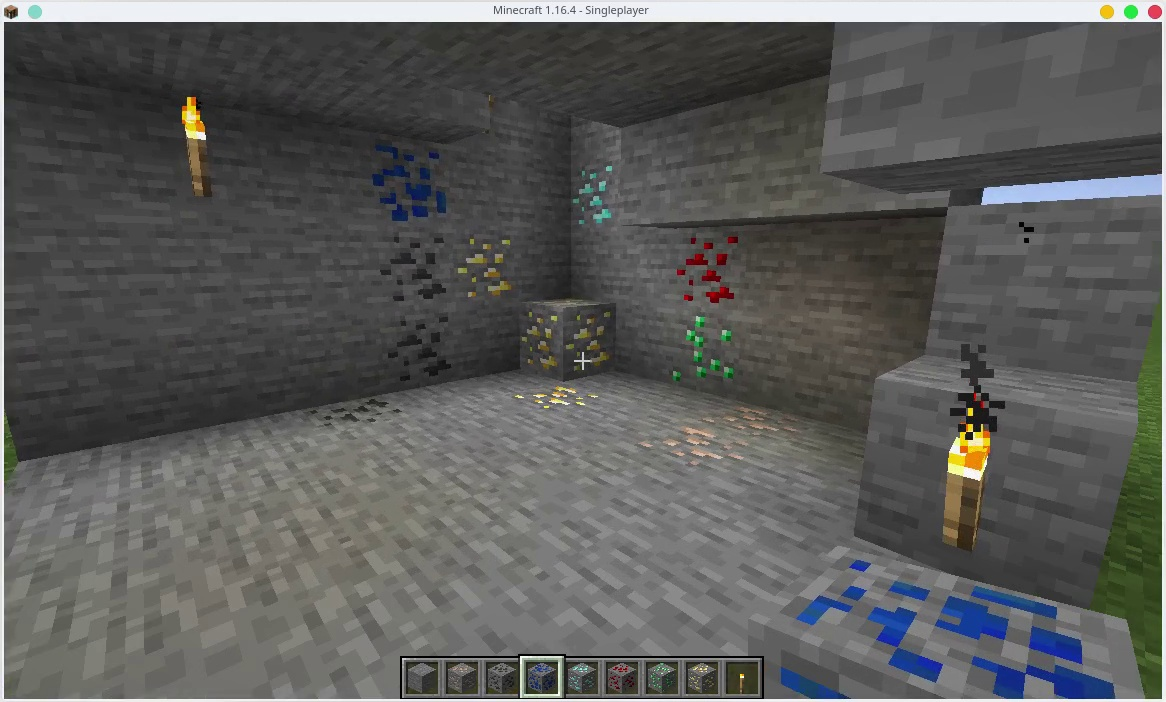gold: (520, 294, 616, 376), (450, 227, 518, 300), (515, 383, 609, 425), (689, 661, 719, 692)
